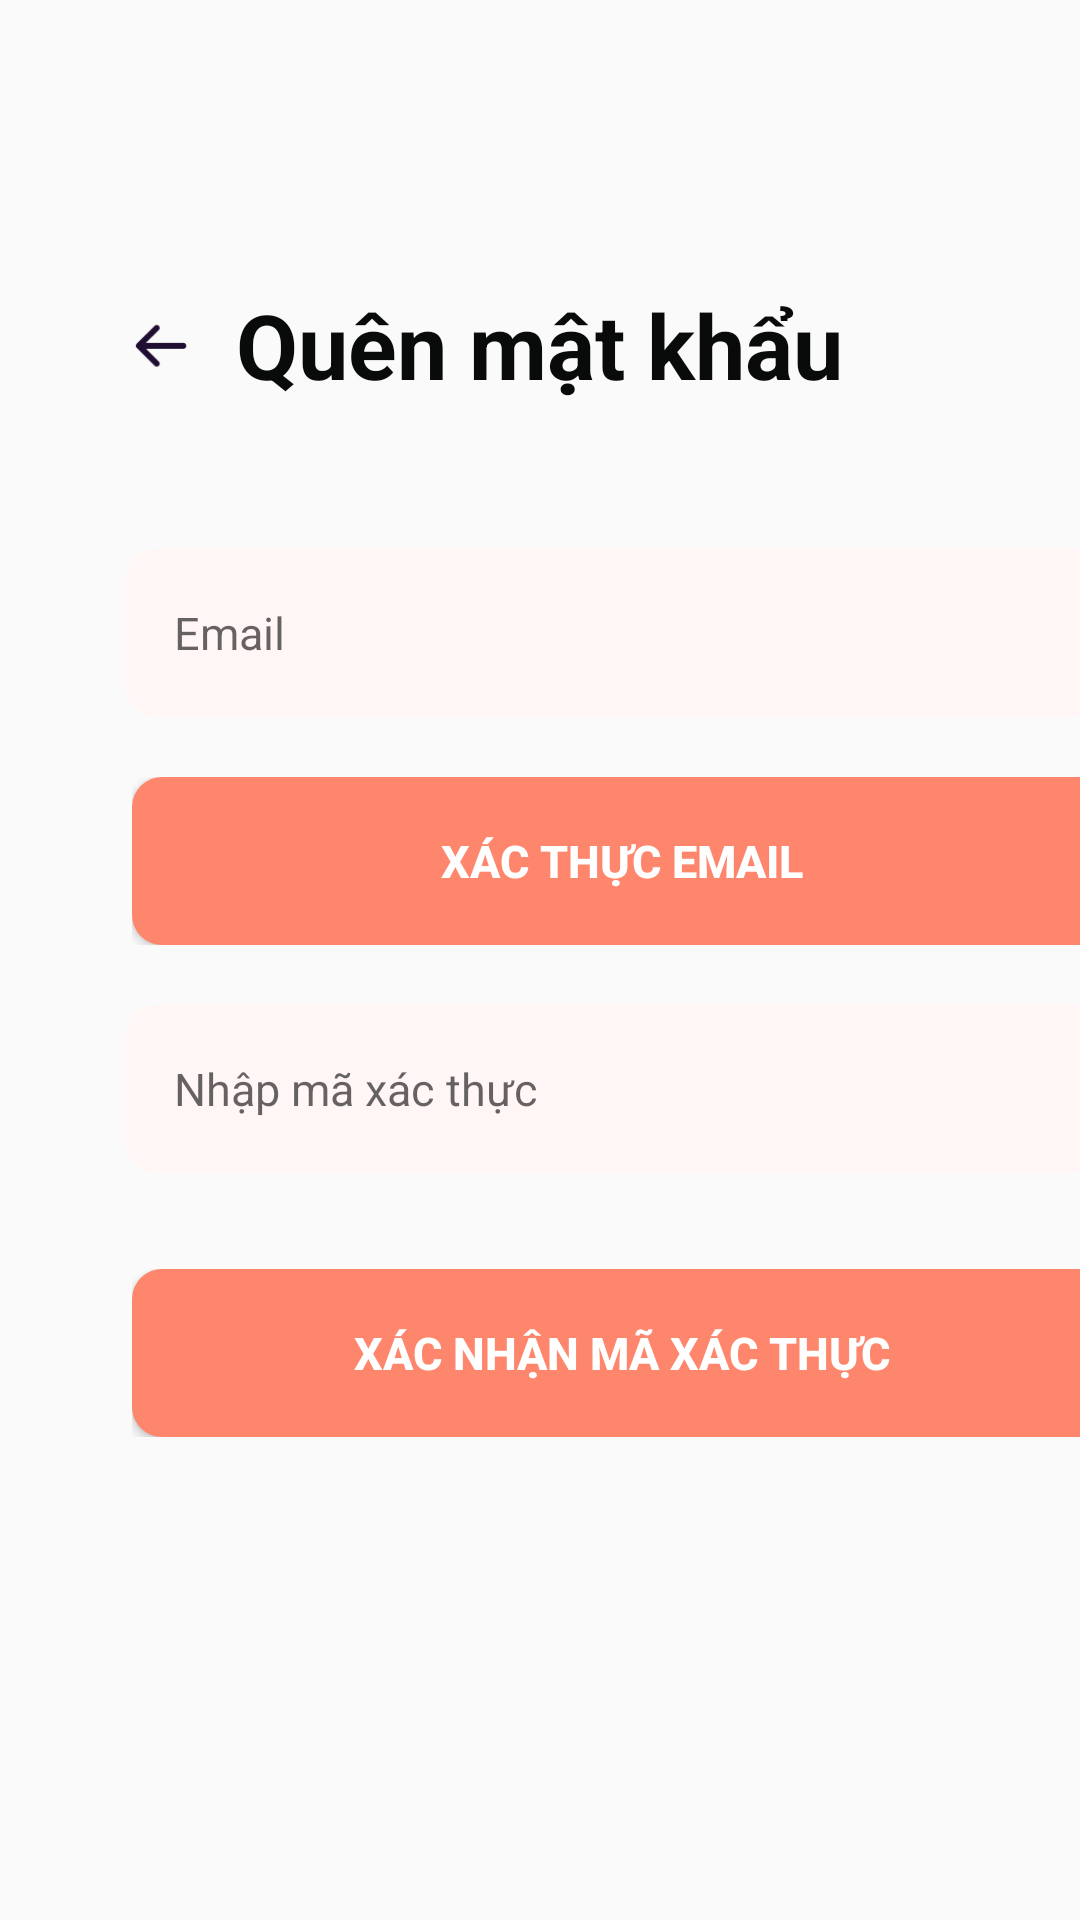

Icons on this 1080 × 1920 Android screen, each with the point to tap as (x,y):
arrow left: (161,345)
